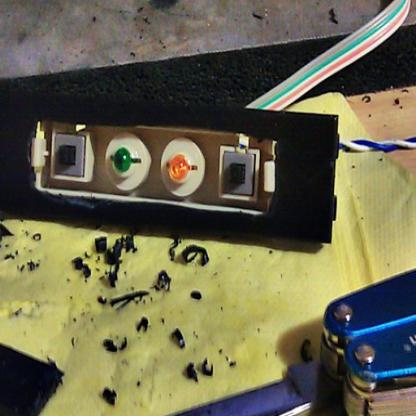knife: (49, 218, 415, 415)
